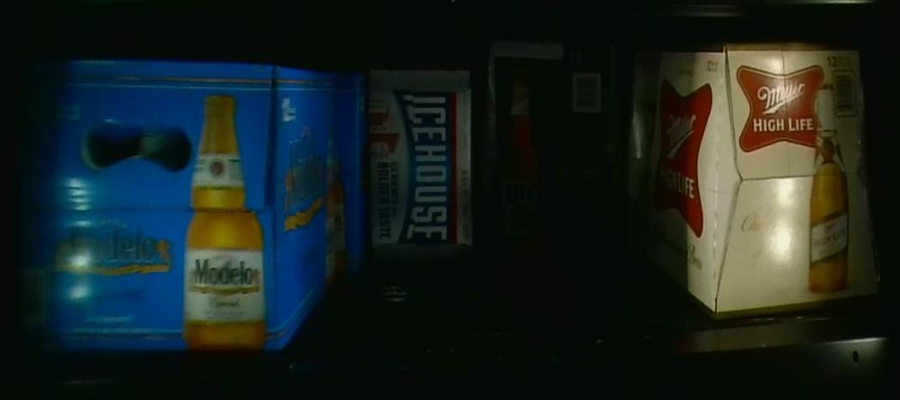bottle: (24, 61, 341, 341), (661, 44, 881, 309), (488, 37, 623, 257), (368, 67, 470, 262)
